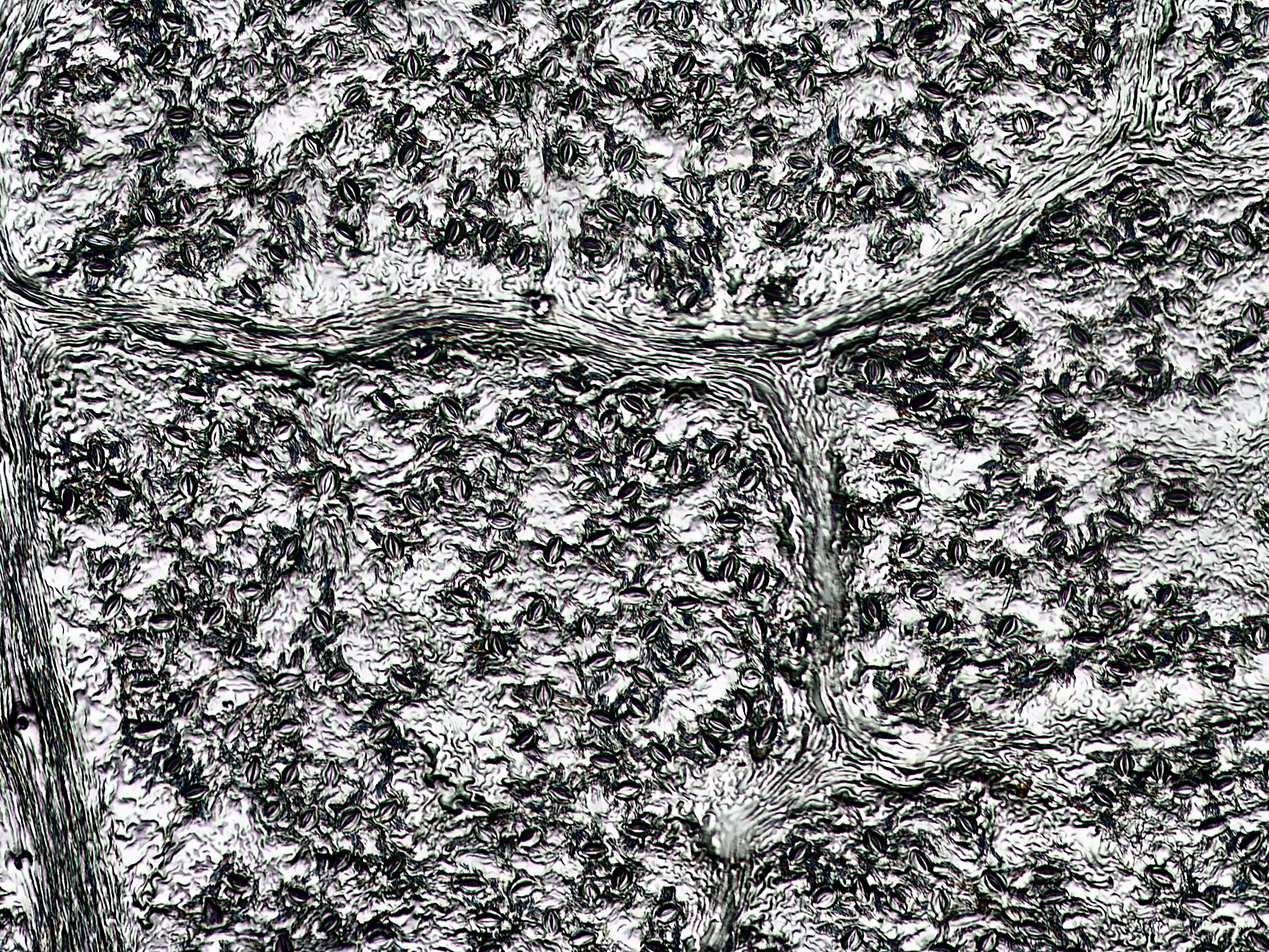stomata: (314, 464, 342, 498), (595, 198, 625, 225), (939, 700, 970, 725), (745, 52, 770, 82), (1180, 896, 1214, 918), (893, 185, 921, 211), (80, 231, 118, 250), (864, 829, 888, 859), (452, 179, 477, 207), (631, 664, 659, 689), (337, 176, 361, 205), (639, 196, 662, 226), (1167, 231, 1190, 261), (867, 114, 889, 145), (746, 613, 768, 644), (885, 233, 910, 260), (398, 141, 422, 169), (775, 217, 799, 245), (732, 690, 753, 722), (486, 630, 507, 662), (614, 145, 637, 174), (938, 142, 967, 165), (885, 676, 908, 705), (1227, 221, 1250, 250), (401, 49, 423, 79), (867, 45, 897, 67), (1012, 109, 1034, 139), (269, 192, 291, 222), (718, 552, 740, 582), (1146, 865, 1176, 887), (917, 83, 948, 104), (402, 492, 428, 517), (898, 533, 924, 558), (137, 200, 161, 227), (982, 870, 1009, 894), (454, 875, 488, 894), (695, 731, 718, 759), (755, 717, 778, 745), (1105, 510, 1133, 533), (1240, 302, 1263, 330), (568, 10, 588, 42), (1210, 711, 1239, 733), (1089, 37, 1110, 67), (681, 175, 702, 205), (553, 376, 583, 397), (748, 564, 769, 594), (817, 191, 836, 224), (131, 721, 164, 740), (1070, 631, 1103, 650), (395, 202, 419, 228), (995, 322, 1021, 346), (648, 741, 672, 767), (179, 240, 202, 267), (1113, 751, 1136, 778), (988, 552, 1011, 579), (644, 257, 664, 288), (163, 424, 191, 446), (311, 607, 333, 635), (810, 887, 838, 909), (498, 164, 519, 193), (365, 928, 394, 949), (533, 680, 554, 709), (546, 784, 575, 805), (1213, 33, 1242, 54), (715, 512, 745, 532), (1033, 865, 1063, 885), (914, 690, 938, 715), (1042, 531, 1067, 555), (964, 491, 988, 516), (1115, 242, 1145, 262), (828, 144, 854, 167), (943, 345, 966, 371), (1195, 372, 1218, 398), (556, 138, 578, 165), (637, 1, 659, 28), (83, 257, 116, 275), (666, 450, 688, 477), (612, 864, 634, 891), (670, 595, 703, 613), (910, 849, 932, 876), (932, 887, 951, 918), (1198, 817, 1229, 836), (445, 218, 466, 246), (709, 442, 730, 470), (528, 595, 549, 623), (1090, 786, 1118, 807), (1040, 386, 1068, 407), (165, 106, 194, 126), (577, 237, 606, 257), (865, 357, 885, 386), (894, 491, 923, 511), (193, 54, 217, 78), (851, 180, 875, 204), (96, 558, 120, 582), (695, 119, 720, 142), (541, 419, 566, 442), (893, 449, 918, 472), (1244, 861, 1267, 886), (1201, 245, 1224, 270), (689, 239, 711, 265), (654, 902, 680, 924), (675, 646, 697, 672), (841, 926, 863, 952), (1038, 888, 1068, 907), (862, 594, 881, 624), (505, 407, 532, 428), (388, 671, 415, 692), (910, 581, 937, 602), (850, 874, 870, 902), (273, 672, 304, 690), (622, 819, 653, 837), (586, 711, 617, 729), (148, 45, 171, 69), (439, 398, 463, 421), (338, 808, 361, 832), (787, 840, 811, 863), (955, 812, 978, 836), (1241, 831, 1264, 855), (1174, 623, 1197, 647), (613, 781, 642, 800), (1104, 661, 1133, 680), (948, 536, 967, 565), (797, 33, 822, 55), (764, 184, 786, 209), (202, 604, 227, 626), (739, 667, 764, 689), (884, 887, 906, 912), (242, 54, 263, 80), (981, 24, 1007, 45), (844, 507, 865, 533), (106, 476, 132, 497), (473, 824, 499, 845), (618, 587, 650, 604), (277, 56, 297, 83), (494, 75, 514, 102), (1049, 209, 1076, 229), (587, 652, 614, 672), (1204, 663, 1234, 681), (225, 97, 253, 116), (696, 74, 715, 102), (501, 453, 529, 472), (909, 392, 937, 411), (993, 364, 1021, 383), (218, 514, 246, 533), (1170, 779, 1198, 798), (1162, 489, 1190, 508), (1173, 295, 1196, 318), (634, 438, 656, 462), (738, 469, 760, 493), (929, 612, 953, 634), (677, 285, 698, 310), (174, 193, 195, 218), (211, 218, 236, 239), (617, 480, 642, 501), (202, 900, 223, 925), (580, 877, 601, 902), (512, 730, 537, 751), (645, 94, 674, 112), (87, 441, 105, 470), (568, 929, 597, 947), (106, 7, 132, 27), (569, 87, 589, 113), (481, 217, 501, 243), (599, 408, 619, 434), (544, 536, 564, 562), (178, 472, 198, 498), (620, 395, 647, 414), (1065, 258, 1092, 277), (206, 420, 225, 447), (60, 488, 79, 515), (577, 842, 609, 858), (487, 513, 517, 530), (148, 614, 178, 631), (300, 134, 322, 157), (538, 58, 560, 81), (416, 344, 439, 366), (330, 850, 352, 873), (1128, 296, 1151, 318), (395, 104, 416, 128), (450, 81, 471, 105), (332, 223, 356, 244), (573, 446, 601, 464), (382, 534, 403, 558), (904, 348, 932, 366), (1086, 365, 1107, 389), (321, 759, 339, 787), (1157, 583, 1178, 607), (998, 439, 1026, 457), (687, 551, 707, 576), (451, 476, 471, 501), (517, 827, 542, 847), (705, 714, 730, 734), (326, 668, 352, 687), (474, 912, 503, 929), (32, 151, 59, 169), (465, 52, 492, 70), (180, 386, 207, 404), (543, 909, 561, 936), (605, 74, 627, 96), (639, 618, 661, 640), (342, 85, 365, 106), (673, 53, 694, 76), (239, 277, 262, 298), (372, 392, 395, 413), (730, 170, 750, 194), (101, 593, 121, 617), (281, 536, 301, 560), (245, 755, 261, 785), (1076, 546, 1100, 566), (1045, 239, 1077, 254), (586, 530, 614, 547), (1118, 456, 1146, 473), (673, 3, 692, 28), (796, 72, 815, 97), (227, 168, 253, 186), (1115, 187, 1141, 205), (942, 417, 973, 432), (485, 550, 506, 572), (318, 913, 340, 934), (1132, 642, 1154, 663), (98, 66, 121, 86), (1052, 60, 1072, 83), (165, 517, 185, 540), (378, 801, 398, 824), (1190, 748, 1217, 765), (576, 613, 595, 637), (1097, 599, 1121, 618), (1063, 418, 1087, 437), (239, 582, 264, 600), (1152, 757, 1170, 782), (1179, 82, 1197, 107), (629, 518, 657, 534), (1134, 357, 1162, 373), (428, 436, 454, 453), (274, 421, 296, 441), (298, 808, 318, 830), (626, 697, 648, 717), (944, 652, 966, 672), (998, 616, 1018, 638), (180, 694, 199, 717), (131, 679, 160, 694), (180, 784, 209, 799), (963, 63, 988, 80), (511, 880, 536, 897), (1058, 581, 1075, 606), (1136, 209, 1161, 226), (384, 854, 404, 875), (590, 754, 618, 769), (264, 800, 283, 822), (786, 154, 812, 170), (750, 125, 773, 143), (225, 718, 242, 742), (325, 38, 341, 63), (513, 243, 529, 268), (167, 580, 183, 605), (1031, 659, 1056, 675), (1070, 326, 1092, 344), (228, 638, 246, 660), (288, 885, 310, 903), (1122, 382, 1144, 400), (125, 643, 148, 660), (282, 763, 299, 786), (1035, 487, 1058, 504), (273, 721, 299, 736), (995, 473, 1021, 488), (162, 11, 182, 30), (972, 306, 991, 326), (251, 10, 272, 28), (41, 119, 66, 134), (139, 150, 164, 165), (574, 478, 597, 494), (1021, 923, 1047, 937), (267, 244, 285, 264), (227, 873, 248, 890), (450, 592, 475, 606), (205, 558, 220, 581), (1193, 115, 1214, 131), (221, 130, 244, 144), (52, 73, 73, 88), (166, 754, 182, 773), (1215, 776, 1235, 791)
